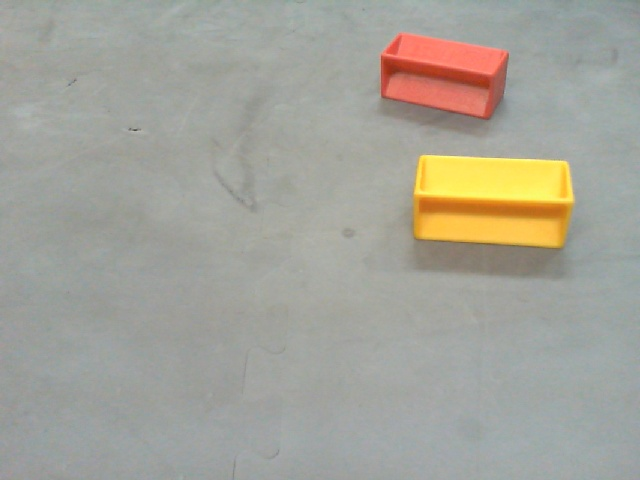RedSample: (378, 30, 512, 124)
YellowSample: (414, 154, 575, 251)
